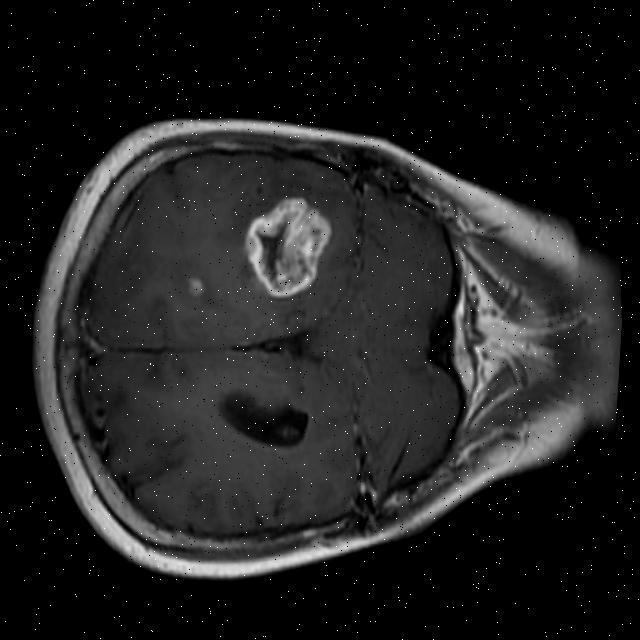Glioma: (233, 189, 341, 302)
